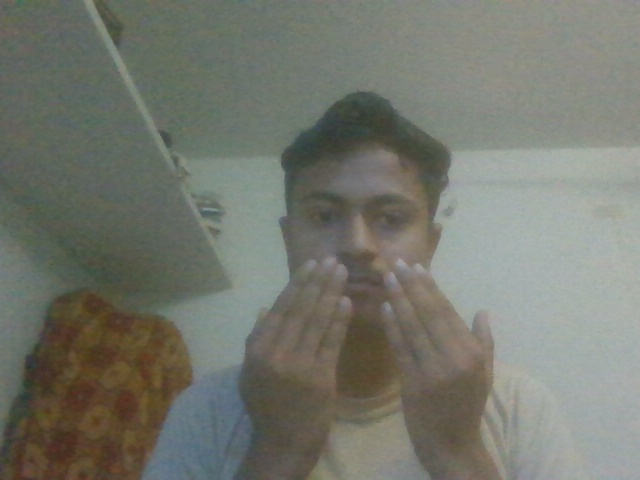Thanks: (238, 250, 506, 480)
